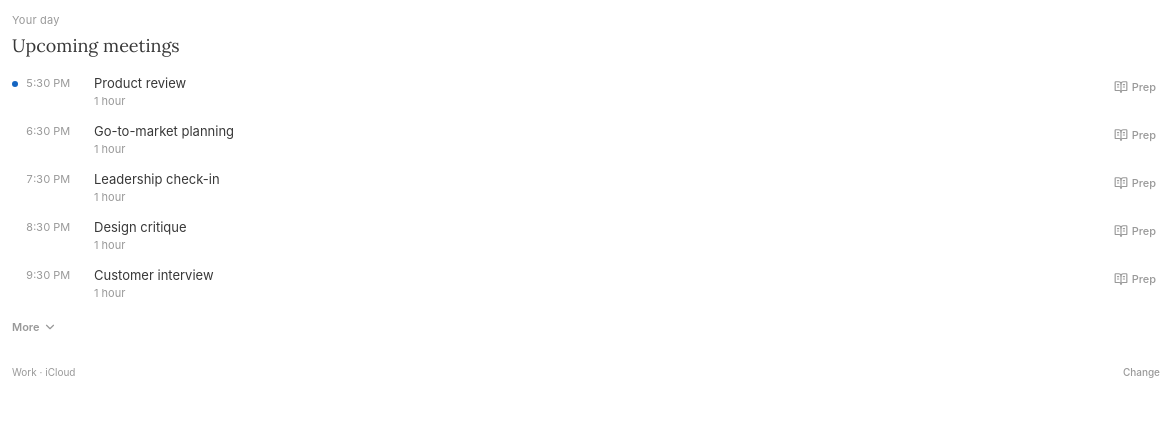
Test: UpcomingMeetings › shows three compact rows and five large-layout rows before disclosure
The image size is (1176, 443).
Later steps or results of the test are not shown.
Expected: the number of elements with test id "upcoming-meeting-row" is 5, [12, 73, 1164, 109]; [12, 121, 1164, 157]; [12, 169, 1164, 205]; [12, 217, 1164, 253]; [12, 265, 1164, 301]
Expected: the text "Weekly retrospective" is not shown
Click the button named "Show 3 more meetings": [35, 327] box [12, 309, 58, 345]
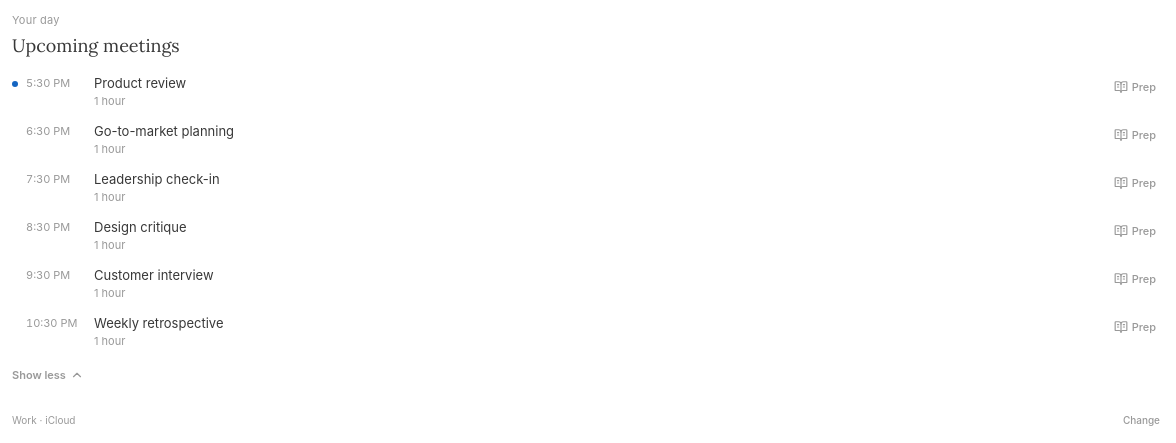
Expected: the number of elements with test id "upcoming-meeting-row" is 6, [12, 73, 1164, 109]; [12, 121, 1164, 157]; [12, 169, 1164, 205]; [12, 217, 1164, 253]; [12, 265, 1164, 301]; [12, 313, 1164, 349]
Expected: the text "Weekly retrospective" is shown, [94, 313, 224, 333]
Expected: the text "Show less" is shown, [12, 357, 84, 393]
